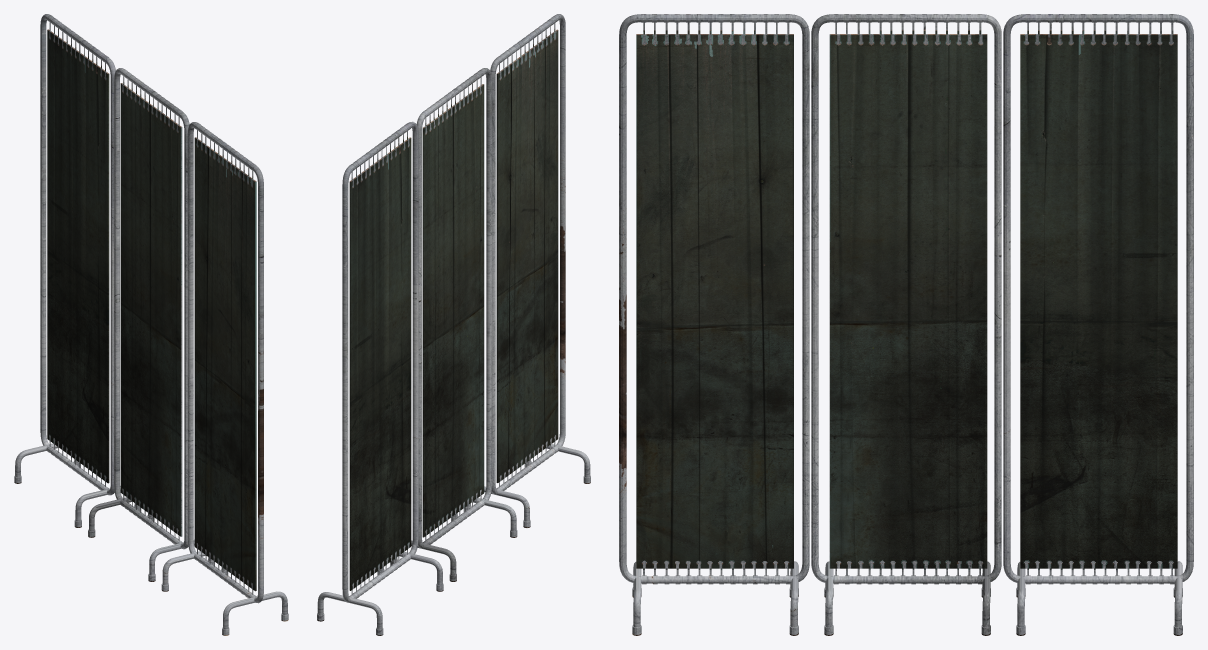
Rendered from curtain.obj.
3 views of the same model, side by side, from view 1: azimuth 30°, elevation 25°; view 2: azimuth 150°, elevation 25°; view 3: azimuth 270°, elevation 25° (orthographic). The views are drawn at different scales.
Parts seen in each view (by area): view 1: polySurface559; view 2: polySurface559; view 3: polySurface559.
Part boxes in pixels (x1,y1,x2,y2): polySurface559: (14, 14, 288, 635); polySurface559: (317, 14, 590, 635); polySurface559: (619, 14, 1193, 635).
Size of the model in its own units: 0.5132 by 3.45 by 2.99.
